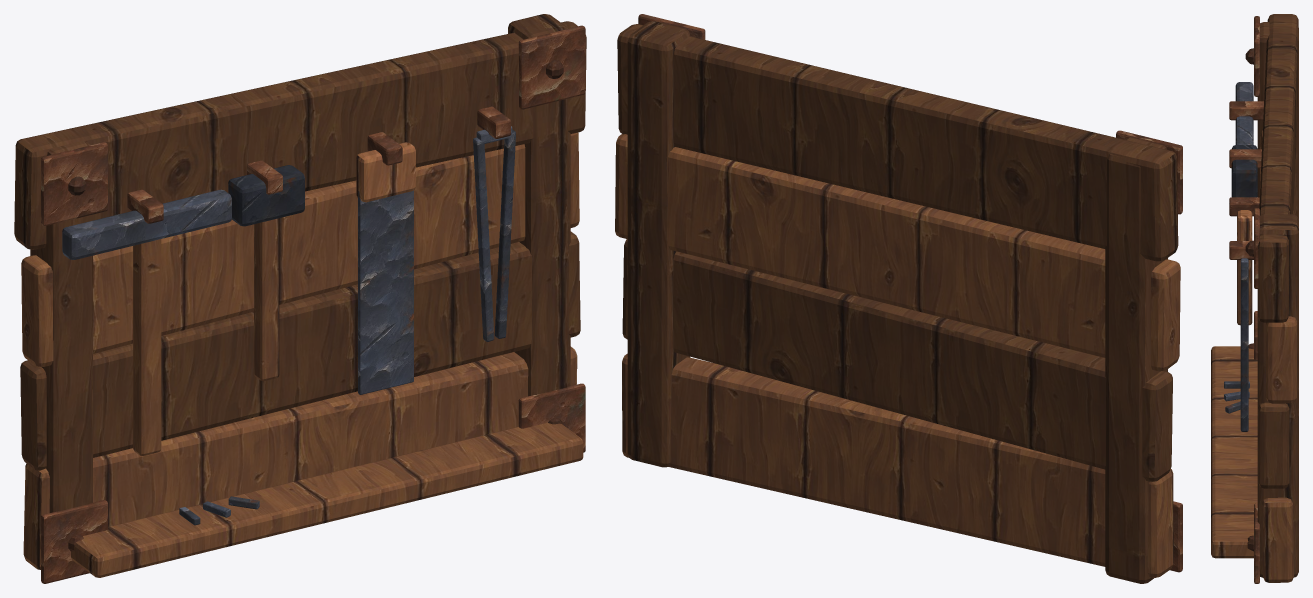
File: tool_rack.glb
3 views of the same model, side by side, from view 1: azimuth 30°, elevation 25°; view 2: azimuth 150°, elevation 25°; view 3: azimuth 270°, elevation 25° (orthographic). The views are drawn at different scales.
Visible parts, largest first — view 1: model; view 2: model; view 3: model.
Part boxes in pixels (left/top/right/bottom): model: left=14, top=14, right=586, bottom=583; model: left=615, top=14, right=1182, bottom=583; model: left=1211, top=14, right=1298, bottom=583.
Bounding box in the file's own units: 1.02 × 0.7575 × 0.17.
Materials: 9 (9 with a texture image).
